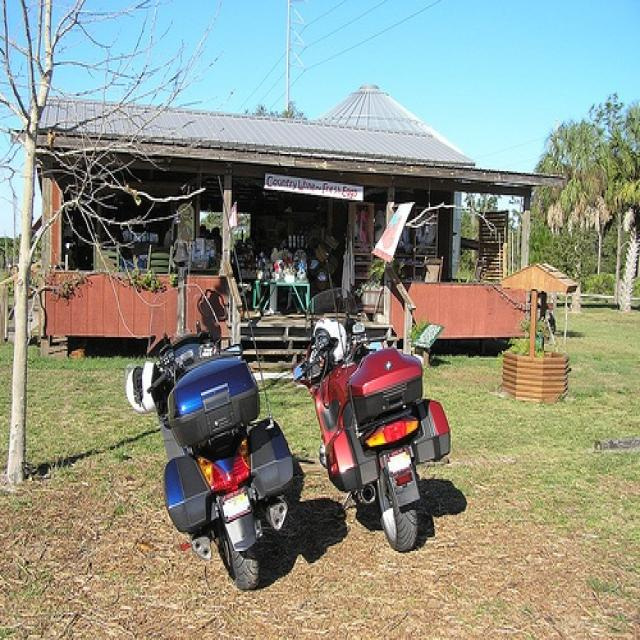motorbike: (125, 282, 294, 591), (296, 287, 452, 552)
